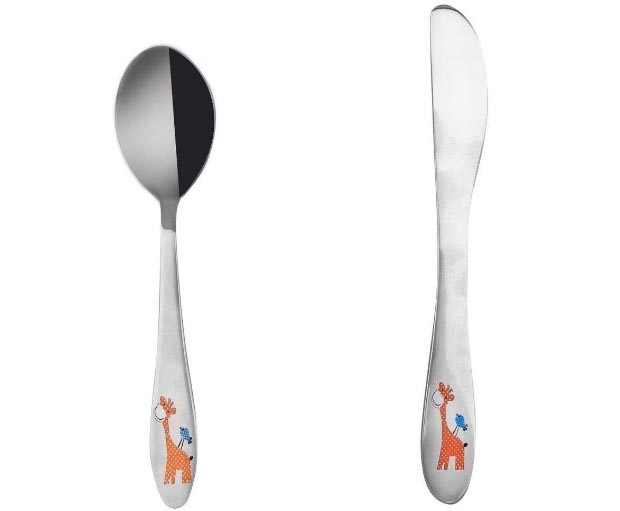Lyzka: (109, 44, 221, 206)
Noz: (427, 1, 490, 252)
